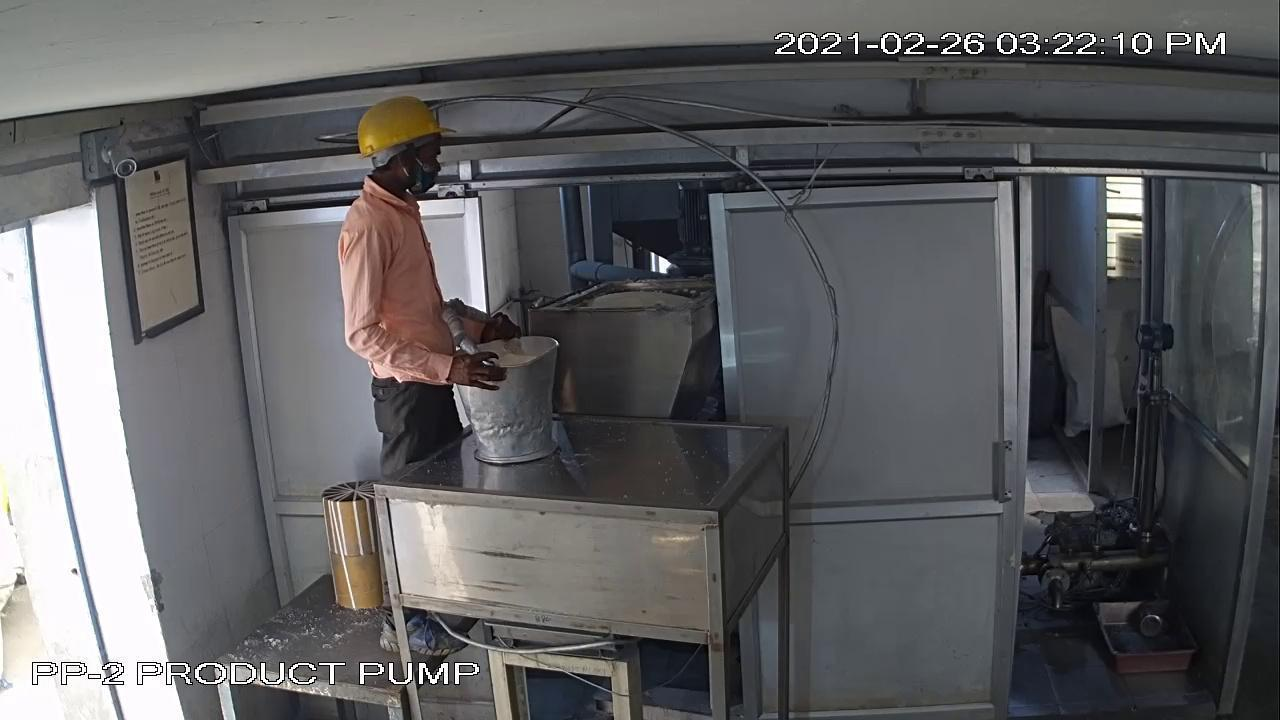helmet: (354, 85, 469, 172)
